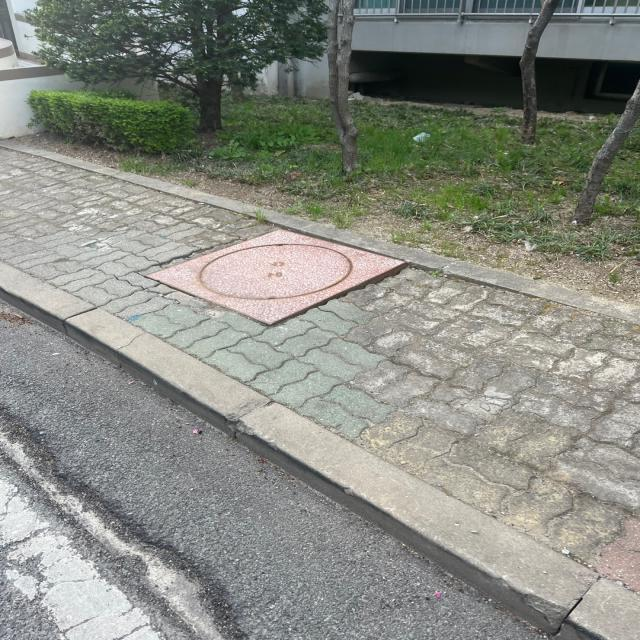Sewer Cover: (136, 229, 415, 336)
